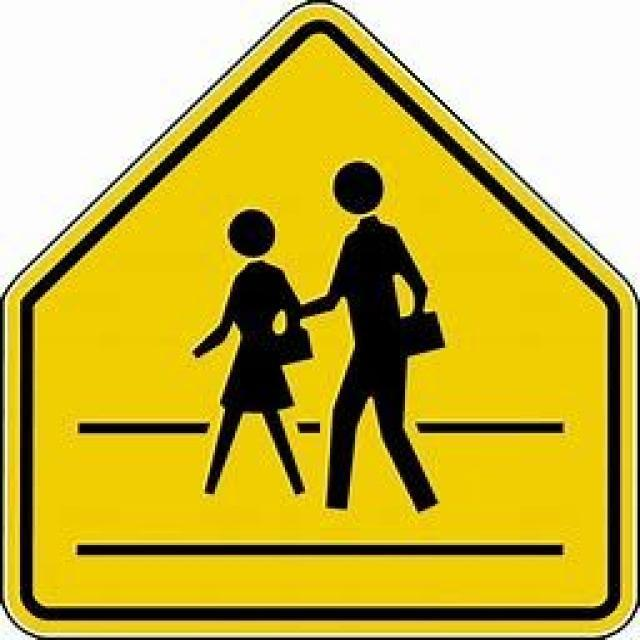school ahead: (16, 27, 604, 619)
